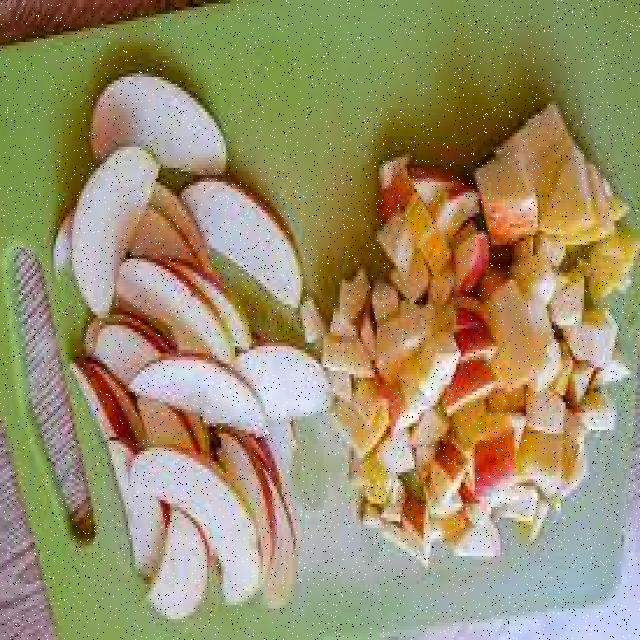Apple: (117, 448, 260, 602), (179, 170, 304, 310), (80, 68, 229, 181), (69, 145, 158, 315), (127, 355, 268, 437), (149, 511, 211, 621), (242, 343, 332, 410), (73, 335, 123, 444)
